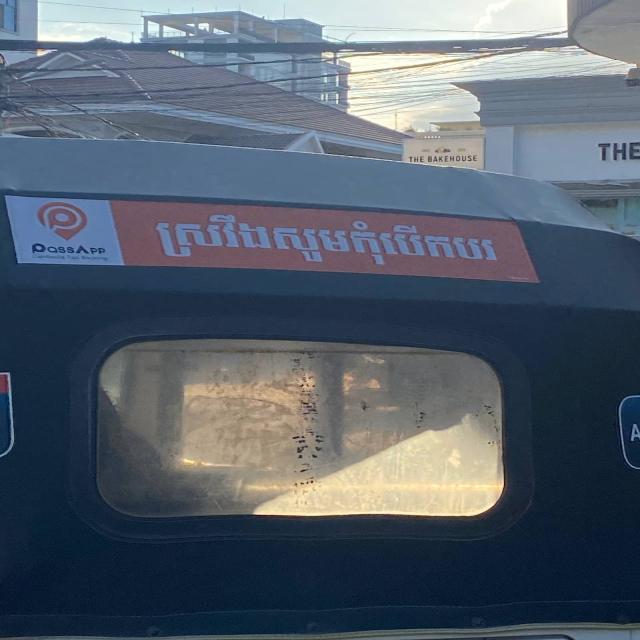Yolov11_80vkh: (143, 208, 519, 280)
